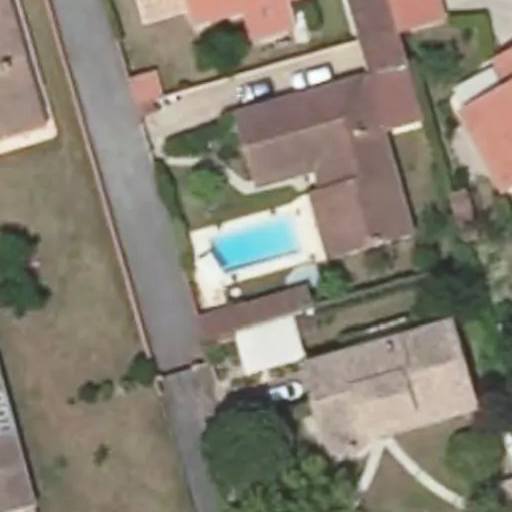pool: (206, 234, 306, 249)
